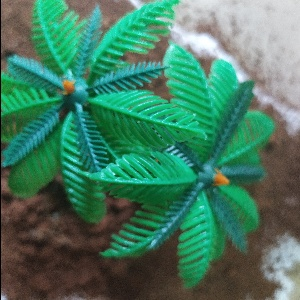plant: (7, 9, 165, 236), (128, 59, 273, 282)
